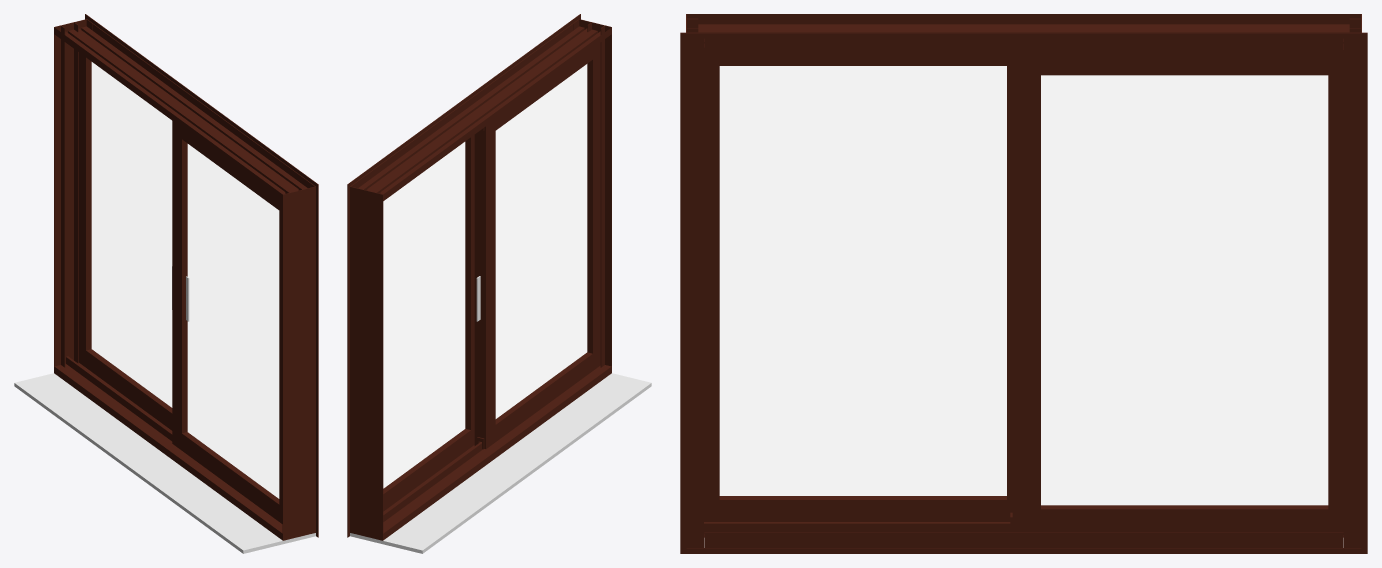
The model's file is window_active.glb.
3 views of the same model, side by side, from view 1: azimuth 30°, elevation 25°; view 2: azimuth 150°, elevation 25°; view 3: azimuth 270°, elevation 25° (orthographic). The views are drawn at different scales.
Parts seen in each view (by area): view 1: window_active; view 2: window_active; view 3: window_active.
Boxes of the visible parts, x1,y1,x2,y2 form: window_active: [14, 14, 318, 553]; window_active: [347, 14, 651, 553]; window_active: [680, 14, 1367, 553].
Bounding box in the file's own units: 0.4974 × 2.29 × 2.73.
